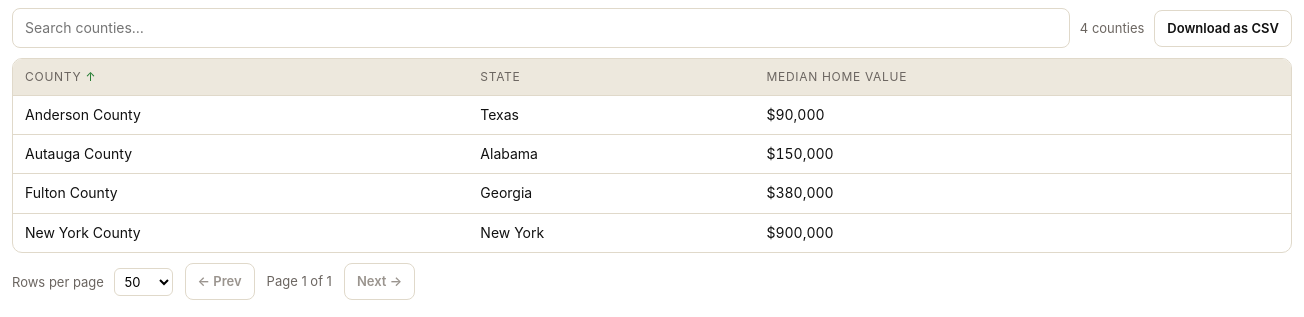
Test: CountyTable (P5-45) › searches by county and state name
Type "georgia" into the search field with test id "county-search" at x=541, y=28, box x1=12 y1=8 x2=1070 y2=48
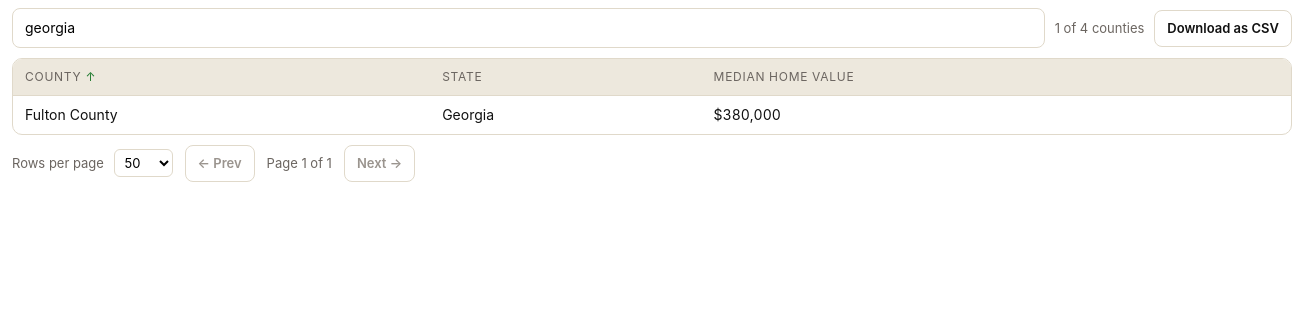
expect the row with test id "county-row" shows "Fulton County": met, box x1=25 y1=106 x2=118 y2=123
expect the text with test id "county-showing" reads "1 of 4 counties": met, box x1=1055 y1=20 x2=1144 y2=36
Replace the text in the search field with test id "county-search" with "zzz" at x=528, y=28, box x1=12 y1=8 x2=1045 y2=48
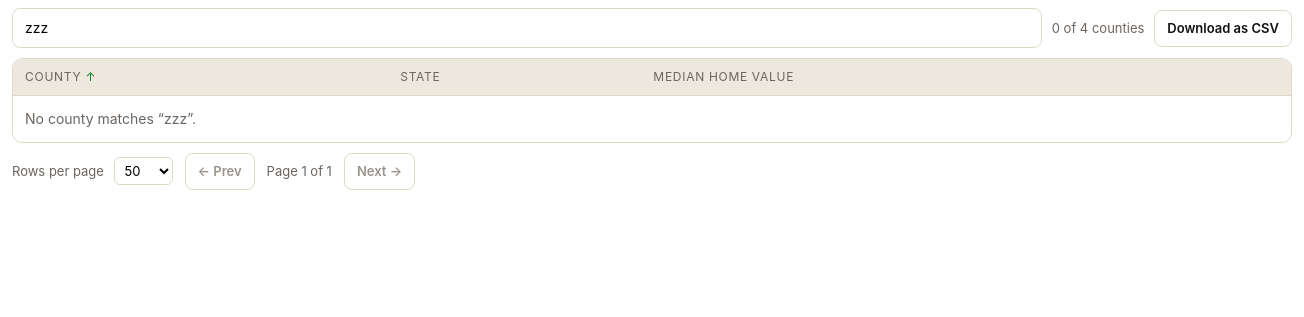
expect the text with test id "county-empty" shows "No county matches": met, box x1=25 y1=110 x2=196 y2=127
